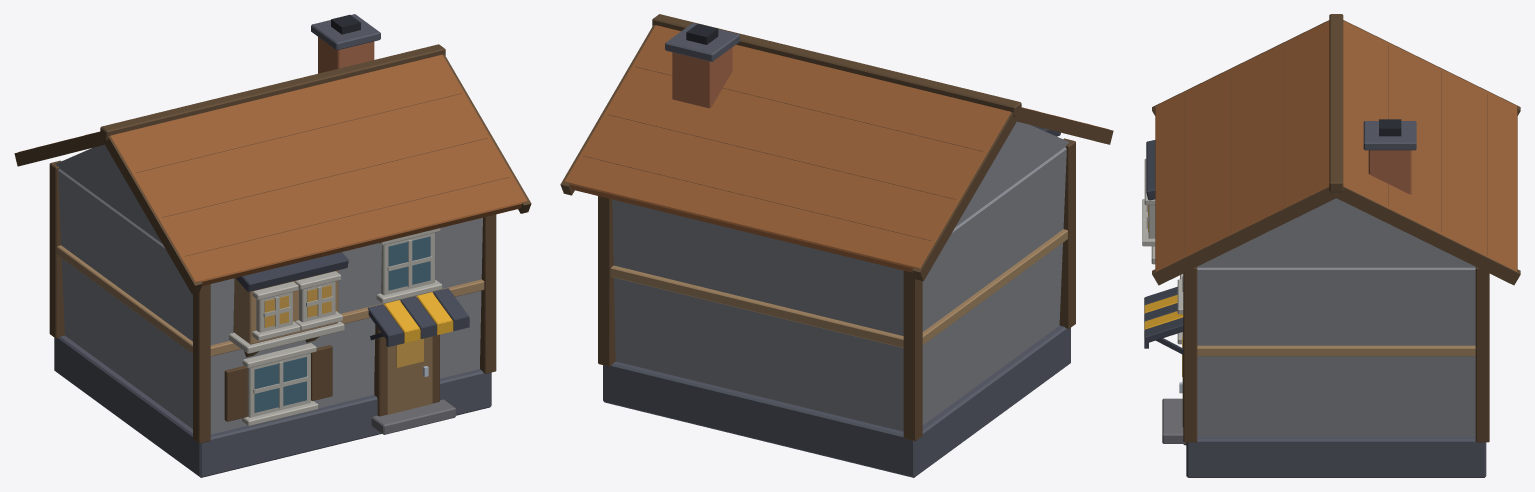
File: Stylized_Apoc_House_05_Collapsed_Suburban_Home.fbx
3 renders of one model, left to right at view 1: azimuth 30°, elevation 25°; view 2: azimuth 150°, elevation 25°; view 3: azimuth 270°, elevation 25°, orthographic. The views are drawn at different scales.
Parts seen in each view (by area): view 1: Stylized_Apoc_House_05_Collapsed_Suburban_Home; view 2: Stylized_Apoc_House_05_Collapsed_Suburban_Home; view 3: Stylized_Apoc_House_05_Collapsed_Suburban_Home.
Part boxes in pixels (<box>): Stylized_Apoc_House_05_Collapsed_Suburban_Home: <box>14,14,531,477</box>; Stylized_Apoc_House_05_Collapsed_Suburban_Home: <box>560,14,1113,477</box>; Stylized_Apoc_House_05_Collapsed_Suburban_Home: <box>1142,14,1520,477</box>.
Bounding box in the file's own units: 6.32 × 5.78 × 5.98.
